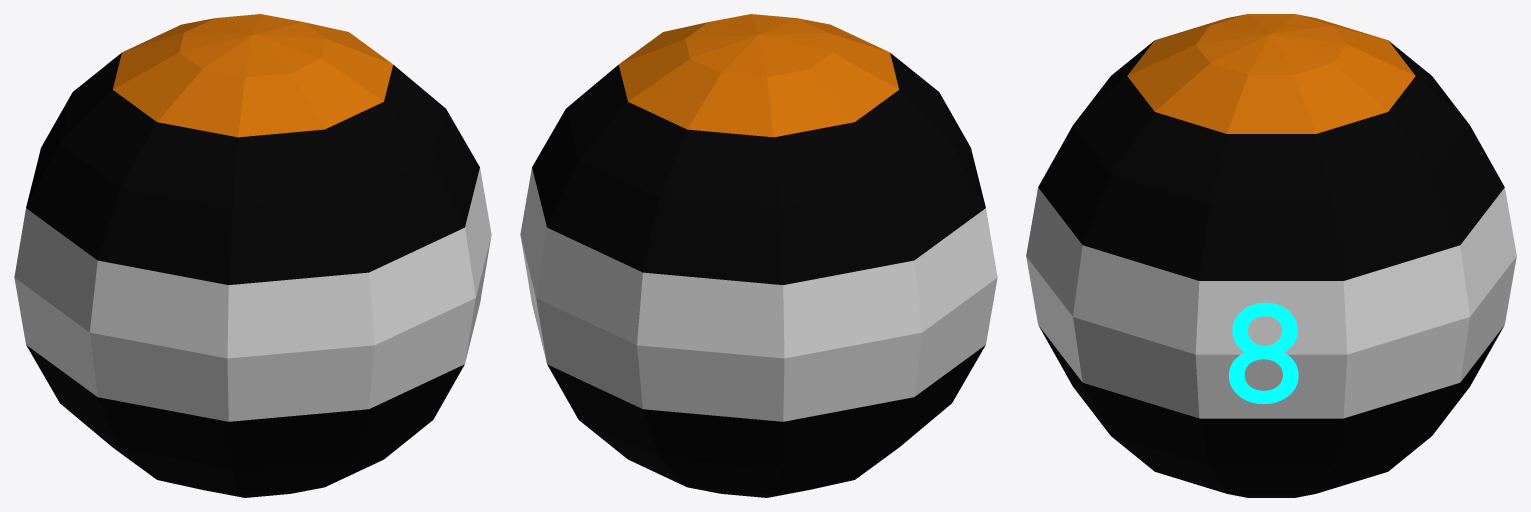
File: ball.fbx
3 renders of one model, left to right at view 1: azimuth 30°, elevation 25°; view 2: azimuth 150°, elevation 25°; view 3: azimuth 270°, elevation 25°, orthographic.
Parts seen in each view (by area): view 1: Sphere; view 2: Sphere; view 3: Sphere, Text.
Boxes of the visible parts, box(x1,y1,x2,y2) form: Sphere: box(14, 14, 491, 497); Sphere: box(520, 14, 997, 497); Sphere: box(1026, 14, 1516, 497); Text: box(1229, 302, 1298, 404).
Bounding box in the file's own units: 193 × 200 × 200.
